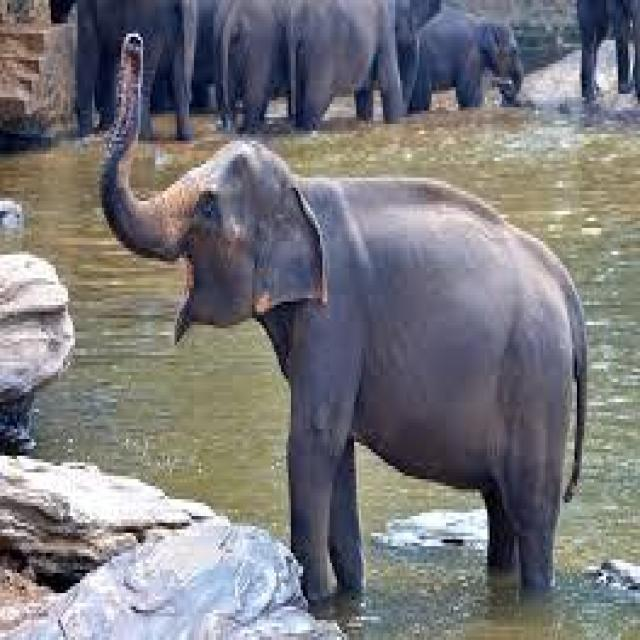Elephant: (97, 23, 582, 573)
